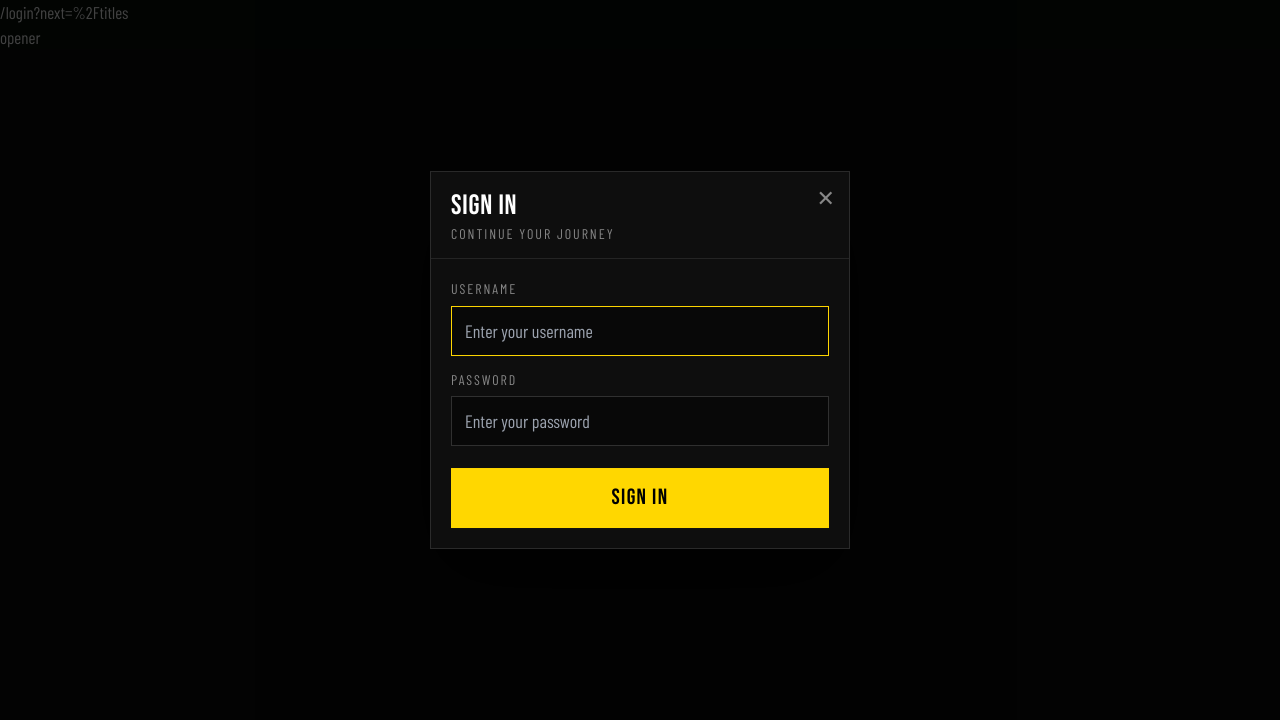
Test case: LoginDialog: formuläret (som den gamla inloggningssidan) › felet visas i dialogen (role=alert), fälten står kvar och pekar på felet
The width and height of the screenshot is (1280, 720).
Type "anna" into the field labelled "Username" at (640, 331), box x1=451 y1=306 x2=829 y2=356
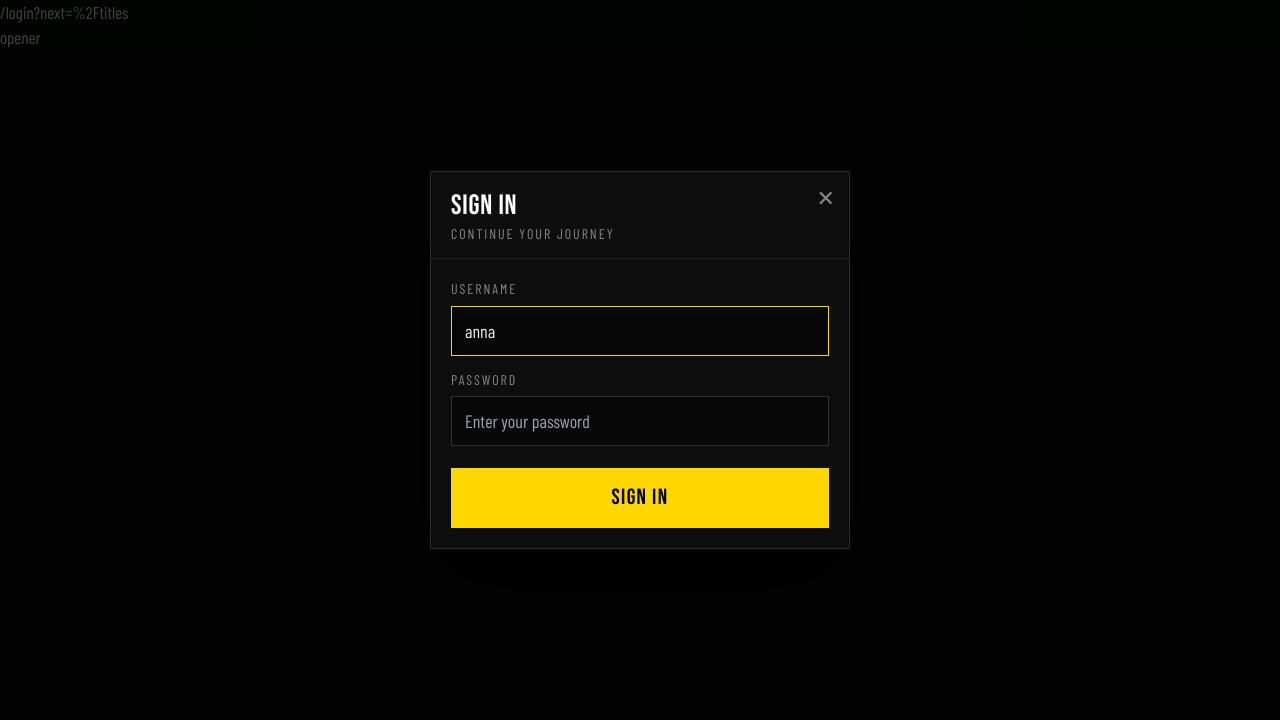
Type "fel-losen" into the password field labelled "Password" at (640, 421), box x1=451 y1=396 x2=829 y2=446
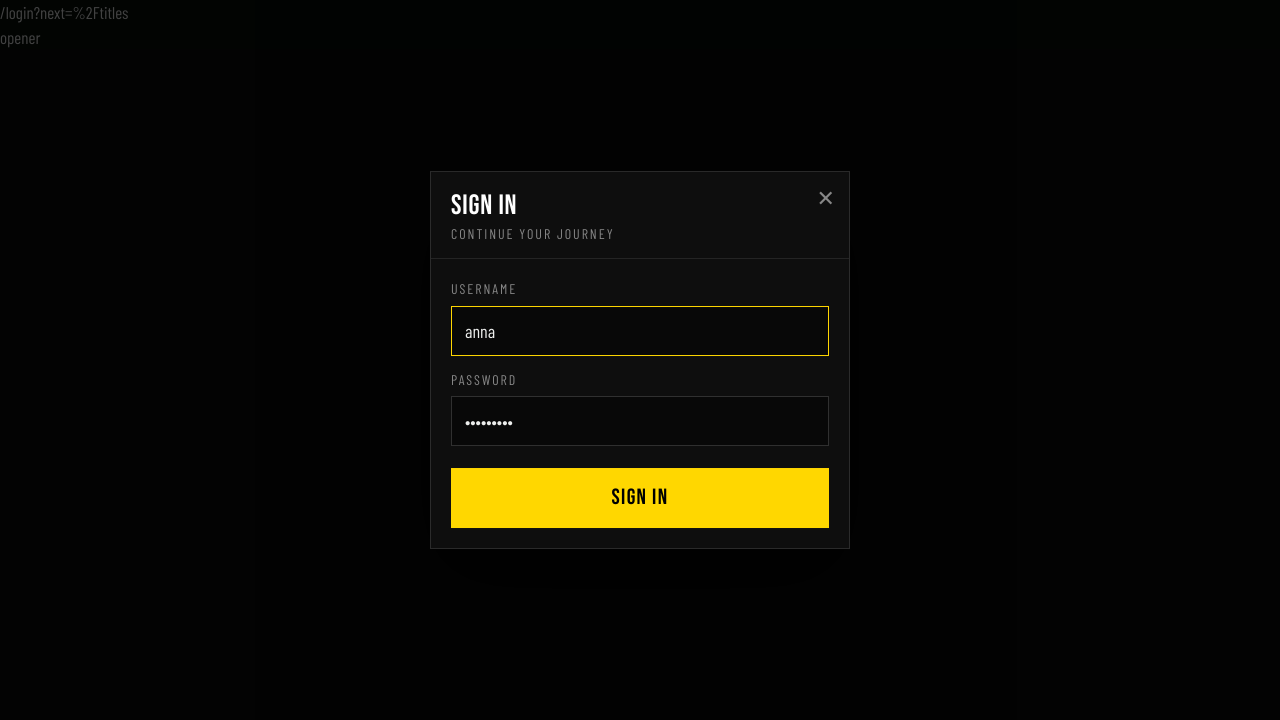
Click the button "Sign In" at (640, 498), box x1=451 y1=468 x2=829 y2=528
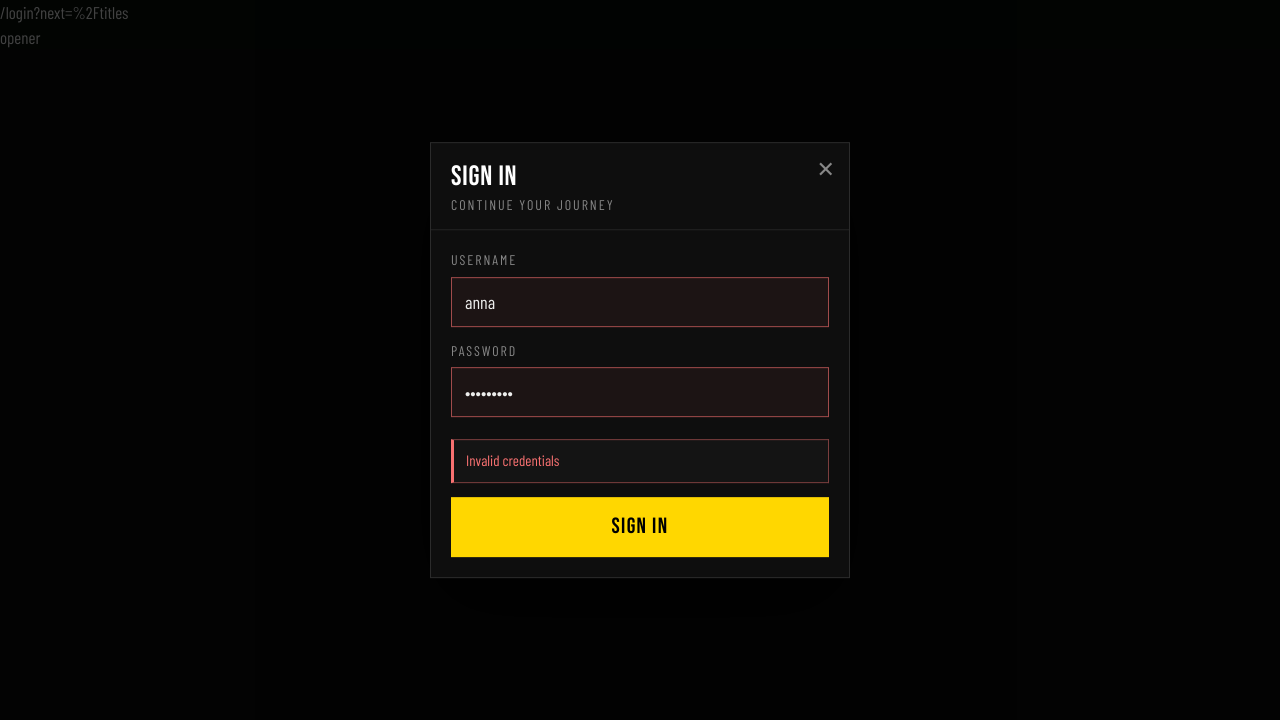
Check: the dialog is shown, box x1=430 y1=142 x2=850 y2=578
Check: the message reads "Invalid credentials", box x1=466 y1=451 x2=559 y2=469
